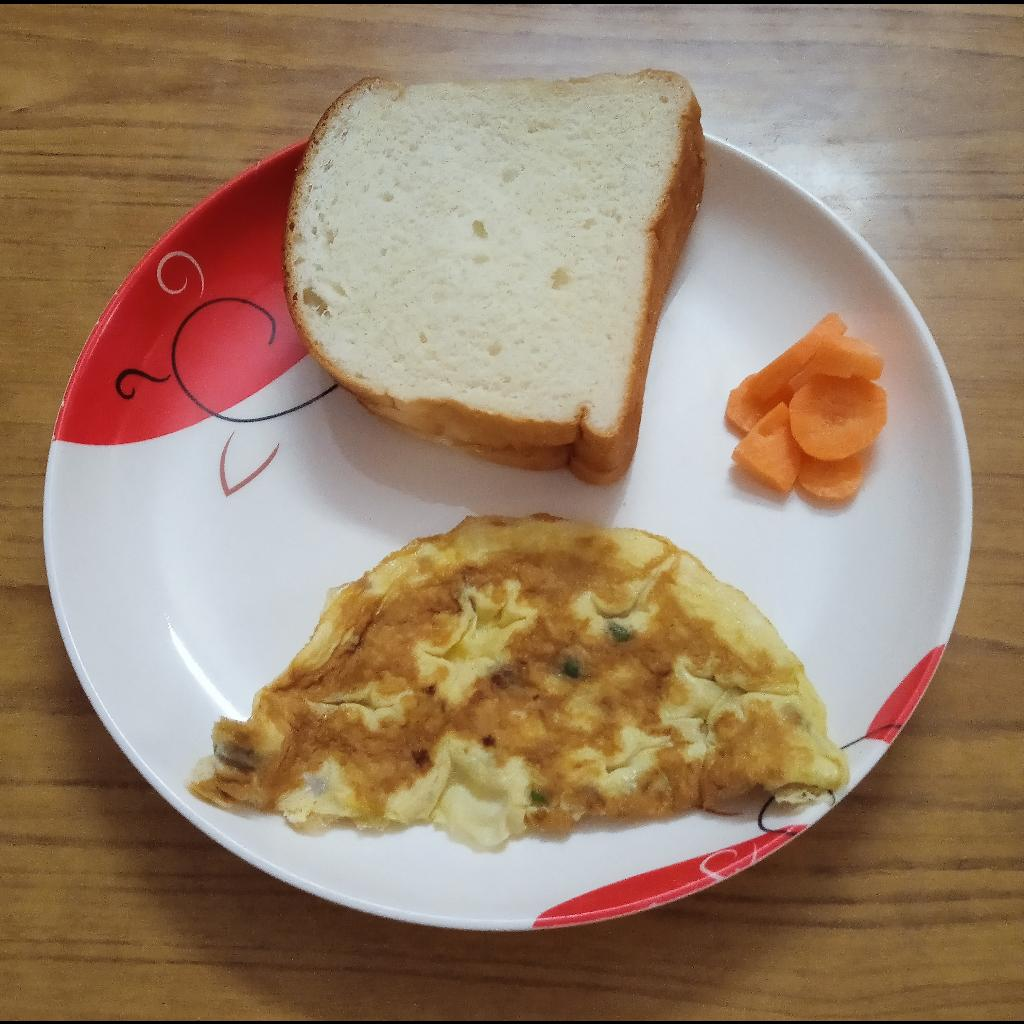bread: (280, 68, 709, 484)
carrot: (724, 312, 888, 499)
egg-poached: (184, 511, 850, 853)
